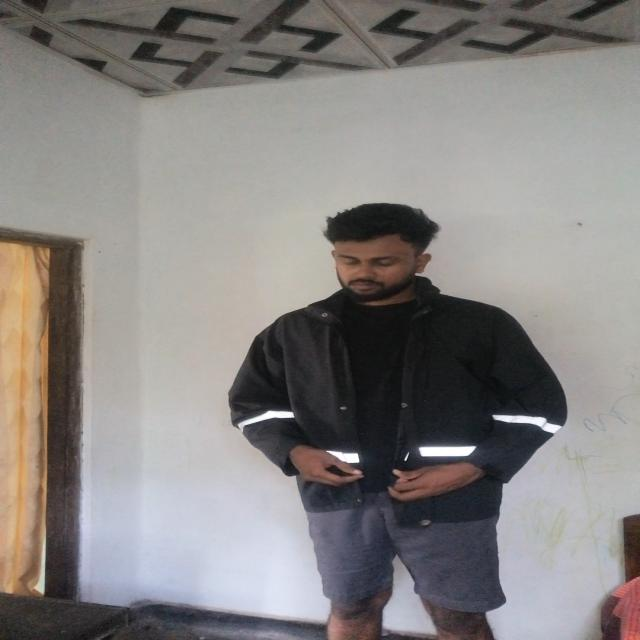Jacket_Wearer: (197, 283, 598, 518)
